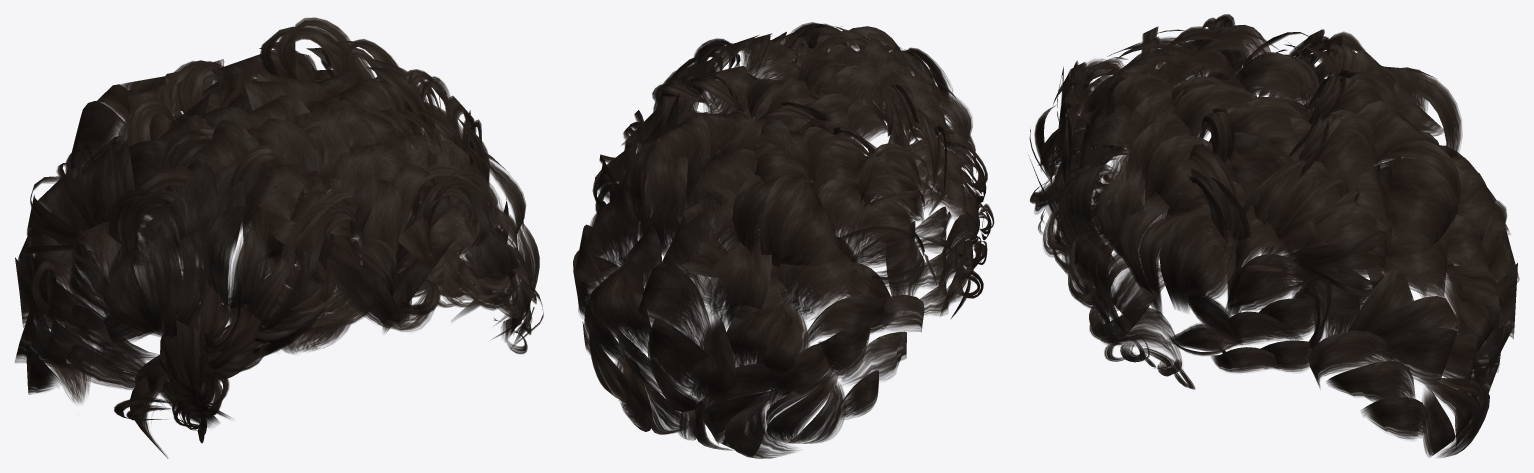
The model's file is Diamond_Wavy_03.glb.
The picture shows the model from 3 angles, left to right: view 1: azimuth 30°, elevation 25°; view 2: azimuth 150°, elevation 25°; view 3: azimuth 270°, elevation 25°; orthographic projection. The views are drawn at different scales.
Parts seen in each view (by area): view 1: diamond wavy 03 textured wave; view 2: diamond wavy 03 textured wave; view 3: diamond wavy 03 textured wave.
Boxes of the visible parts, x1,y1,x2,y2 form: diamond wavy 03 textured wave: (15, 17, 543, 458); diamond wavy 03 textured wave: (573, 22, 994, 458); diamond wavy 03 textured wave: (1028, 14, 1519, 457).
Bounding box in the file's own units: 0.2137 × 0.1946 × 0.2295.
1 material, 1 textured.
